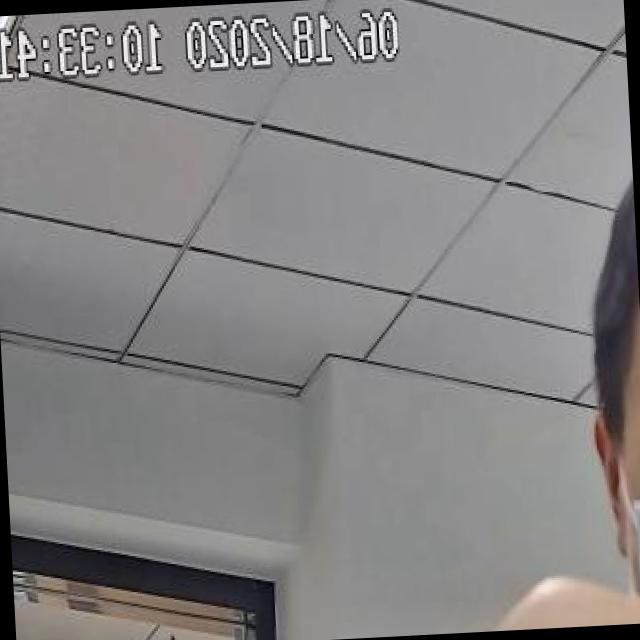Guns: (233, 567, 568, 640)
